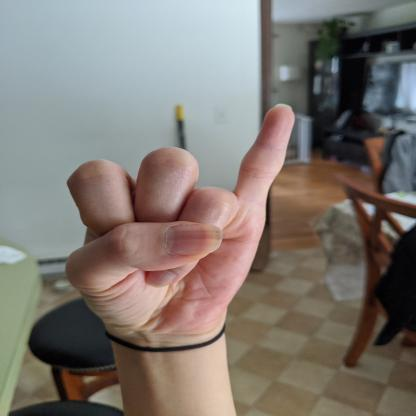I: (58, 101, 298, 341)
